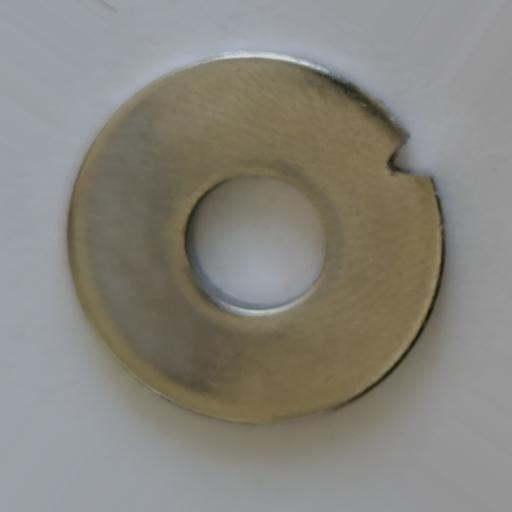burr: (384, 132, 436, 180)
